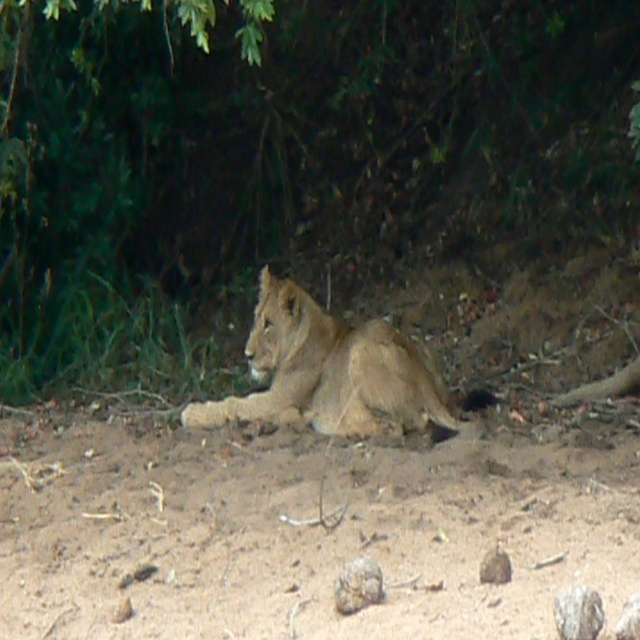Lion: (181, 263, 484, 438)
